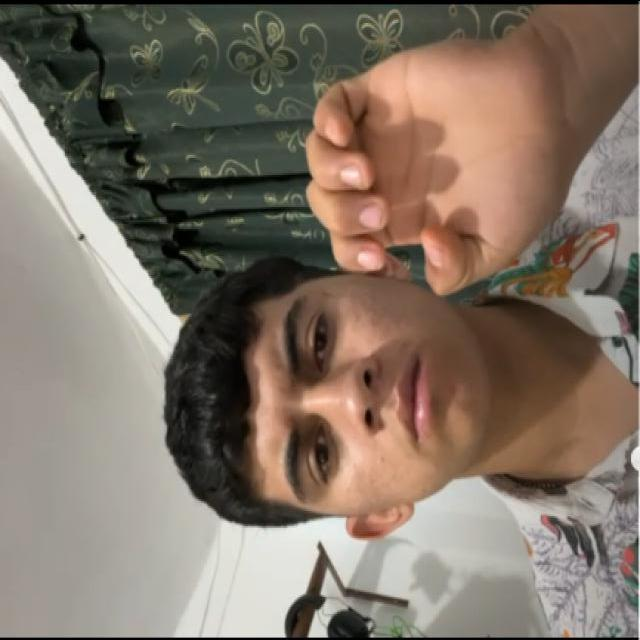E: (297, 30, 584, 330)
